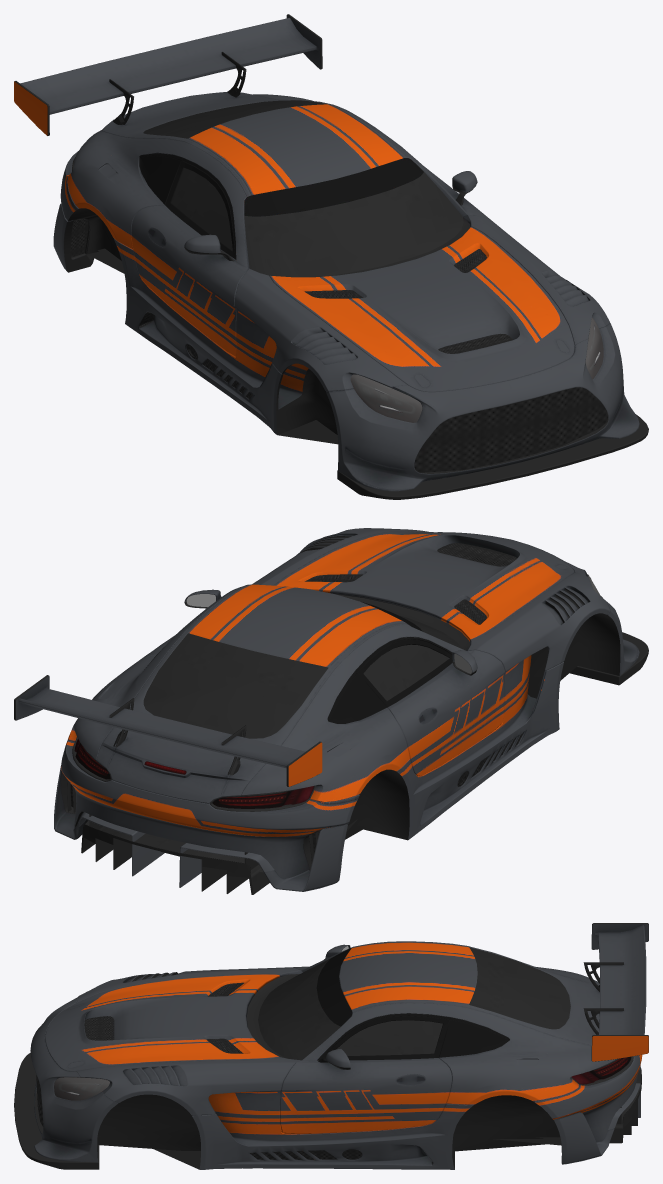
Rendered from sport car 2.fbx.
The picture shows the model from 3 angles, top to bottom: view 1: azimuth 30°, elevation 25°; view 2: azimuth 150°, elevation 25°; view 3: azimuth 270°, elevation 25°; orthographic projection. The views are drawn at different scales.
Parts seen in each view (by area): view 1: car_2; view 2: car_2; view 3: car_2.
Part boxes in pixels (x1,y1,x2,y2): car_2: (14,14,648,499); car_2: (14,528,648,894); car_2: (14,923,648,1169).
Bounding box in the file's own units: 278 × 159 × 629.
4 materials, 3 textured.
